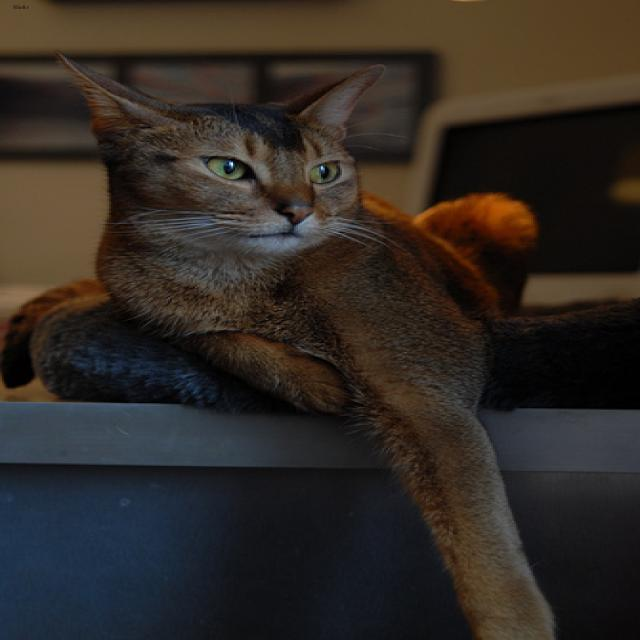Abyssinian: (56, 51, 391, 260)
